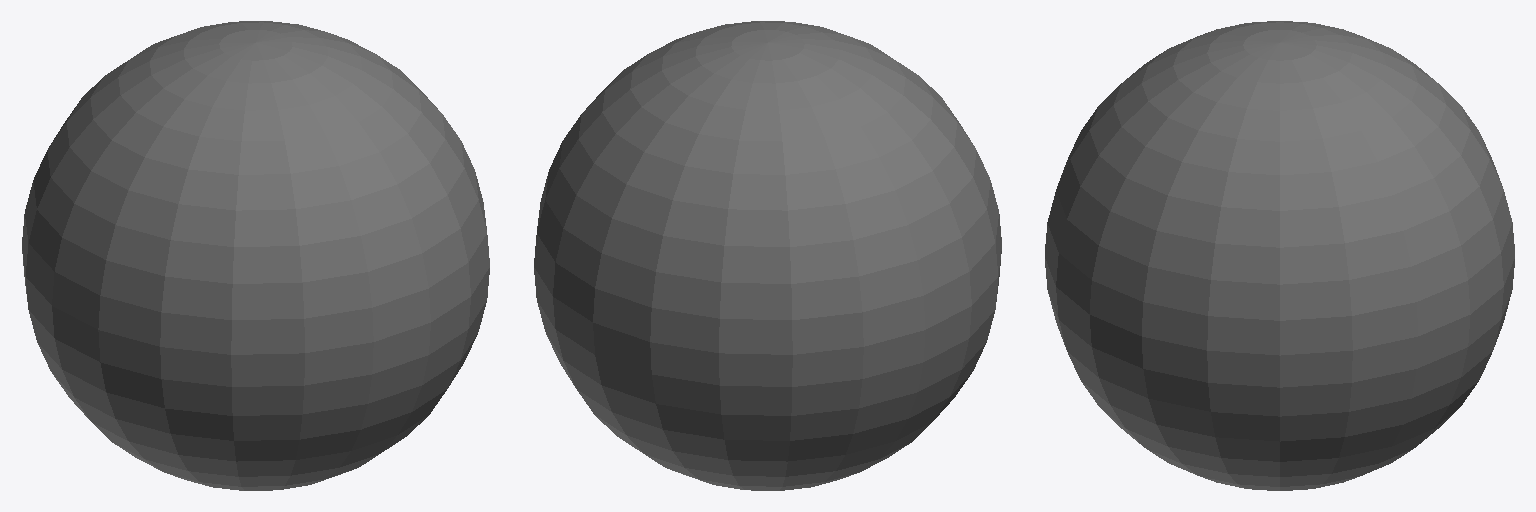
Rendered from earth.obj.
3 views of the same model, side by side, from view 1: azimuth 30°, elevation 25°; view 2: azimuth 150°, elevation 25°; view 3: azimuth 270°, elevation 25° (orthographic).
Parts seen in each view (by area): view 1: Planet; view 2: Planet; view 3: Planet.
Boxes of the visible parts, x1=… form: Planet: x1=22, y1=21, x2=489, y2=490; Planet: x1=534, y1=21, x2=1001, y2=490; Planet: x1=1045, y1=21, x2=1514, y2=490.
Size of the model in its own units: 0.4206 by 0.4206 by 0.4206.